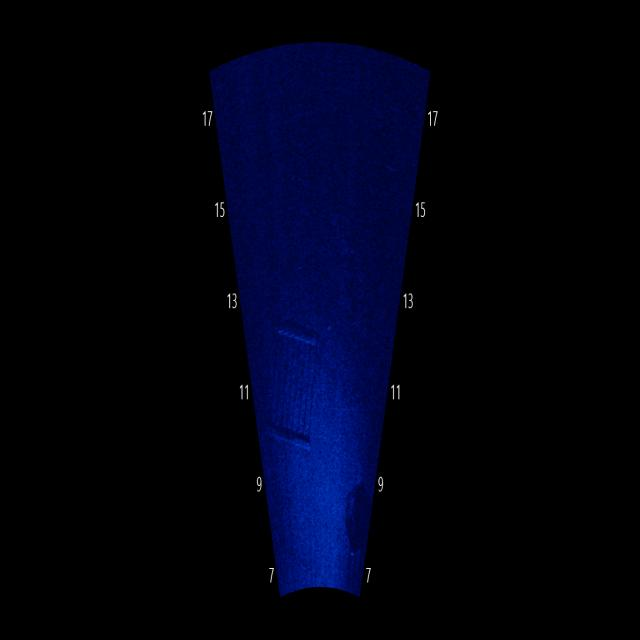square: (267, 307, 328, 476)
